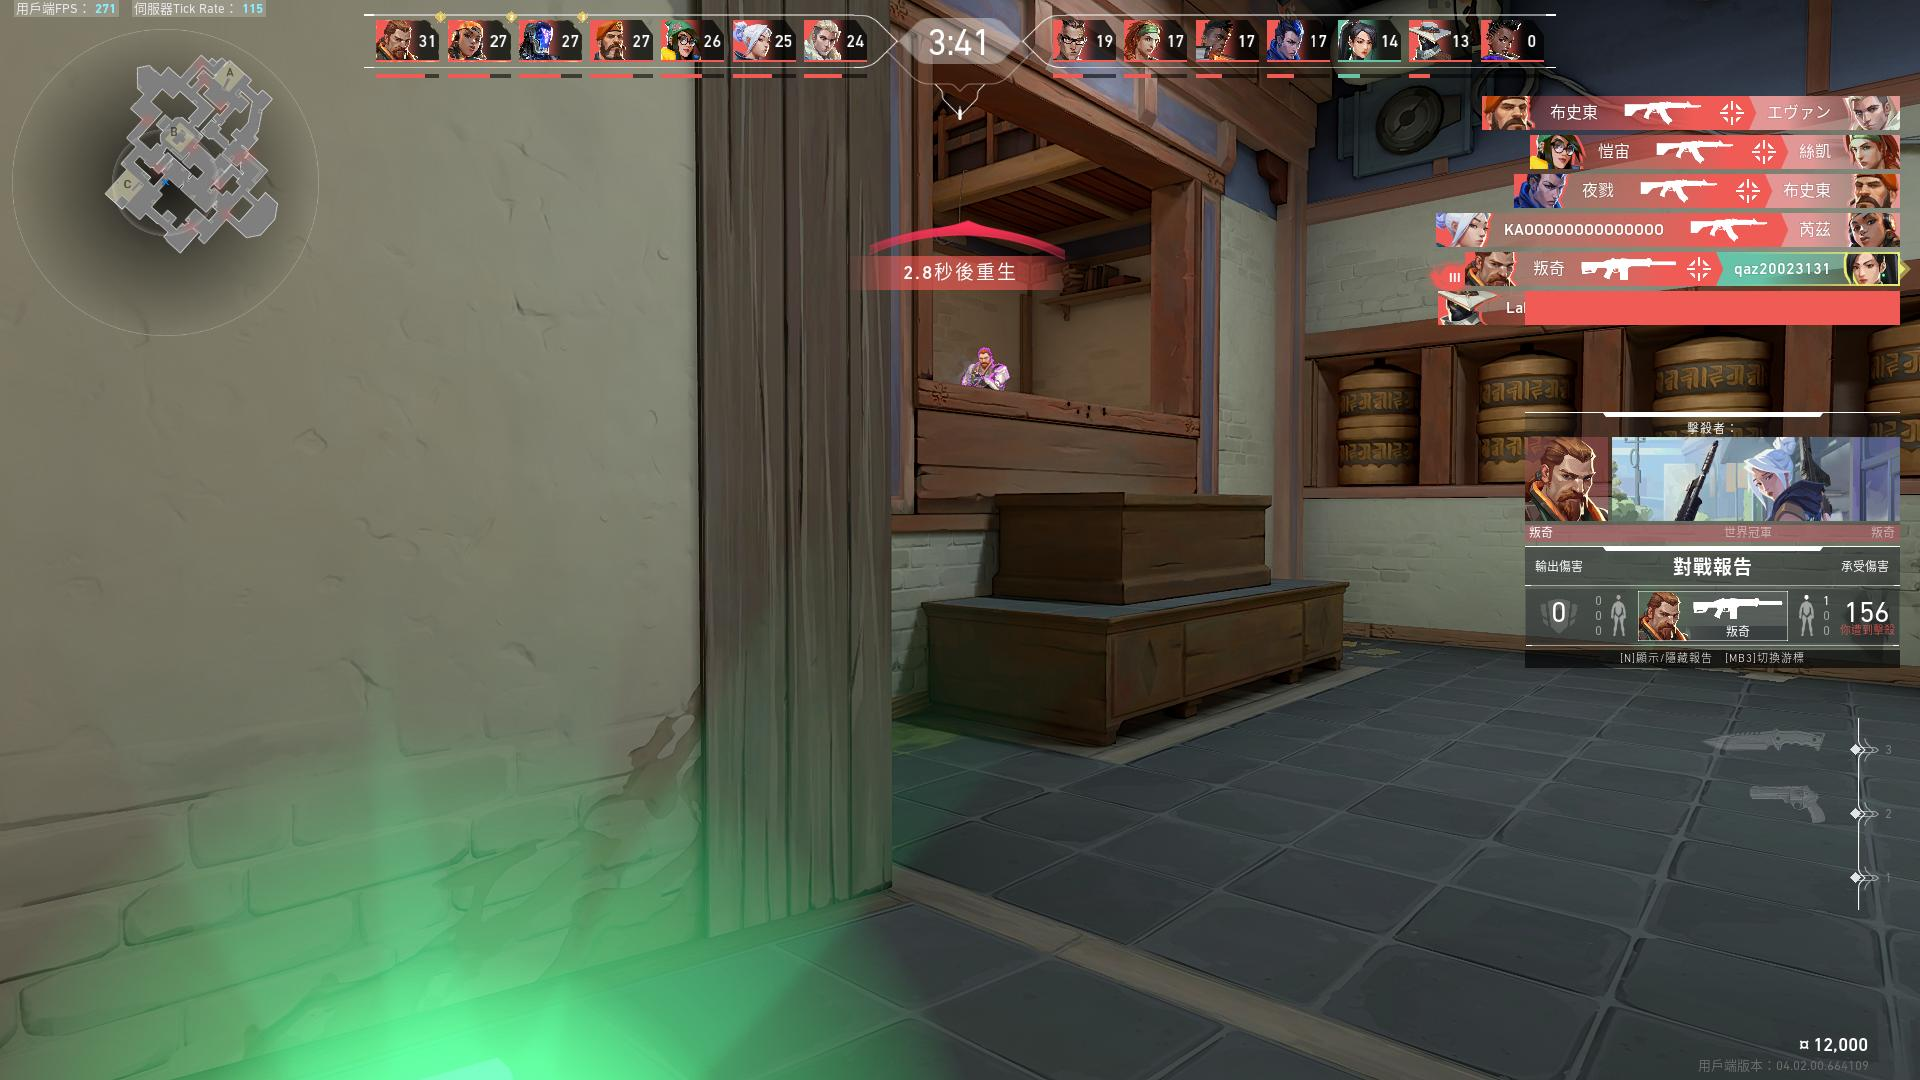enemyBody: (977, 368, 993, 389)
enemyHead: (980, 351, 990, 367)
